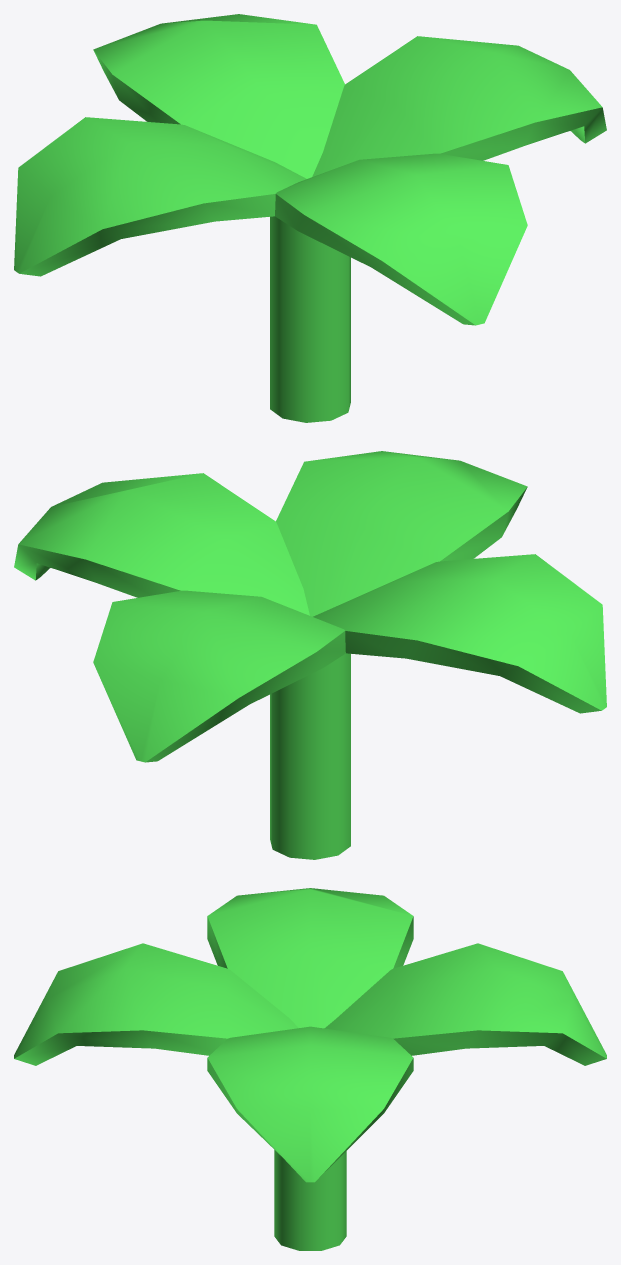
The model's file is Bush_D.fbx.
3 views of the same model, one above another, from view 1: azimuth 30°, elevation 25°; view 2: azimuth 150°, elevation 25°; view 3: azimuth 270°, elevation 25° (orthographic). The views are drawn at different scales.
Parts seen in each view (by area): view 1: Bush_D; view 2: Bush_D; view 3: Bush_D.
Part boxes in pixels (<box>): Bush_D: <box>14,14,606,422</box>; Bush_D: <box>14,451,606,859</box>; Bush_D: <box>14,888,606,1250</box>.
Size of the model in its own units: 115 by 57.48 by 115.
